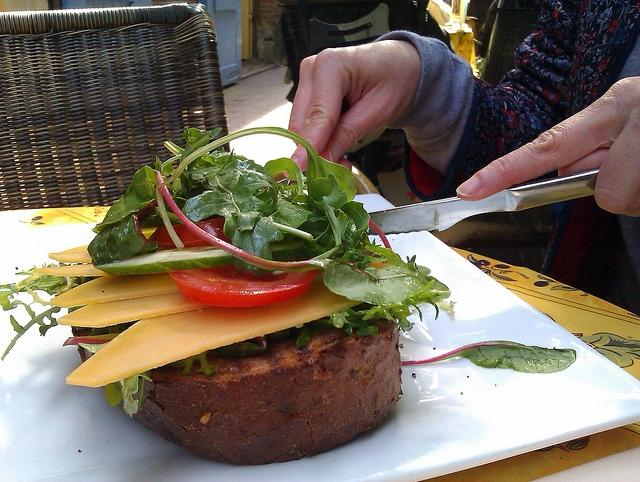cucumber: (93, 240, 320, 276)
tomato: (167, 264, 318, 307), (148, 218, 232, 252)
